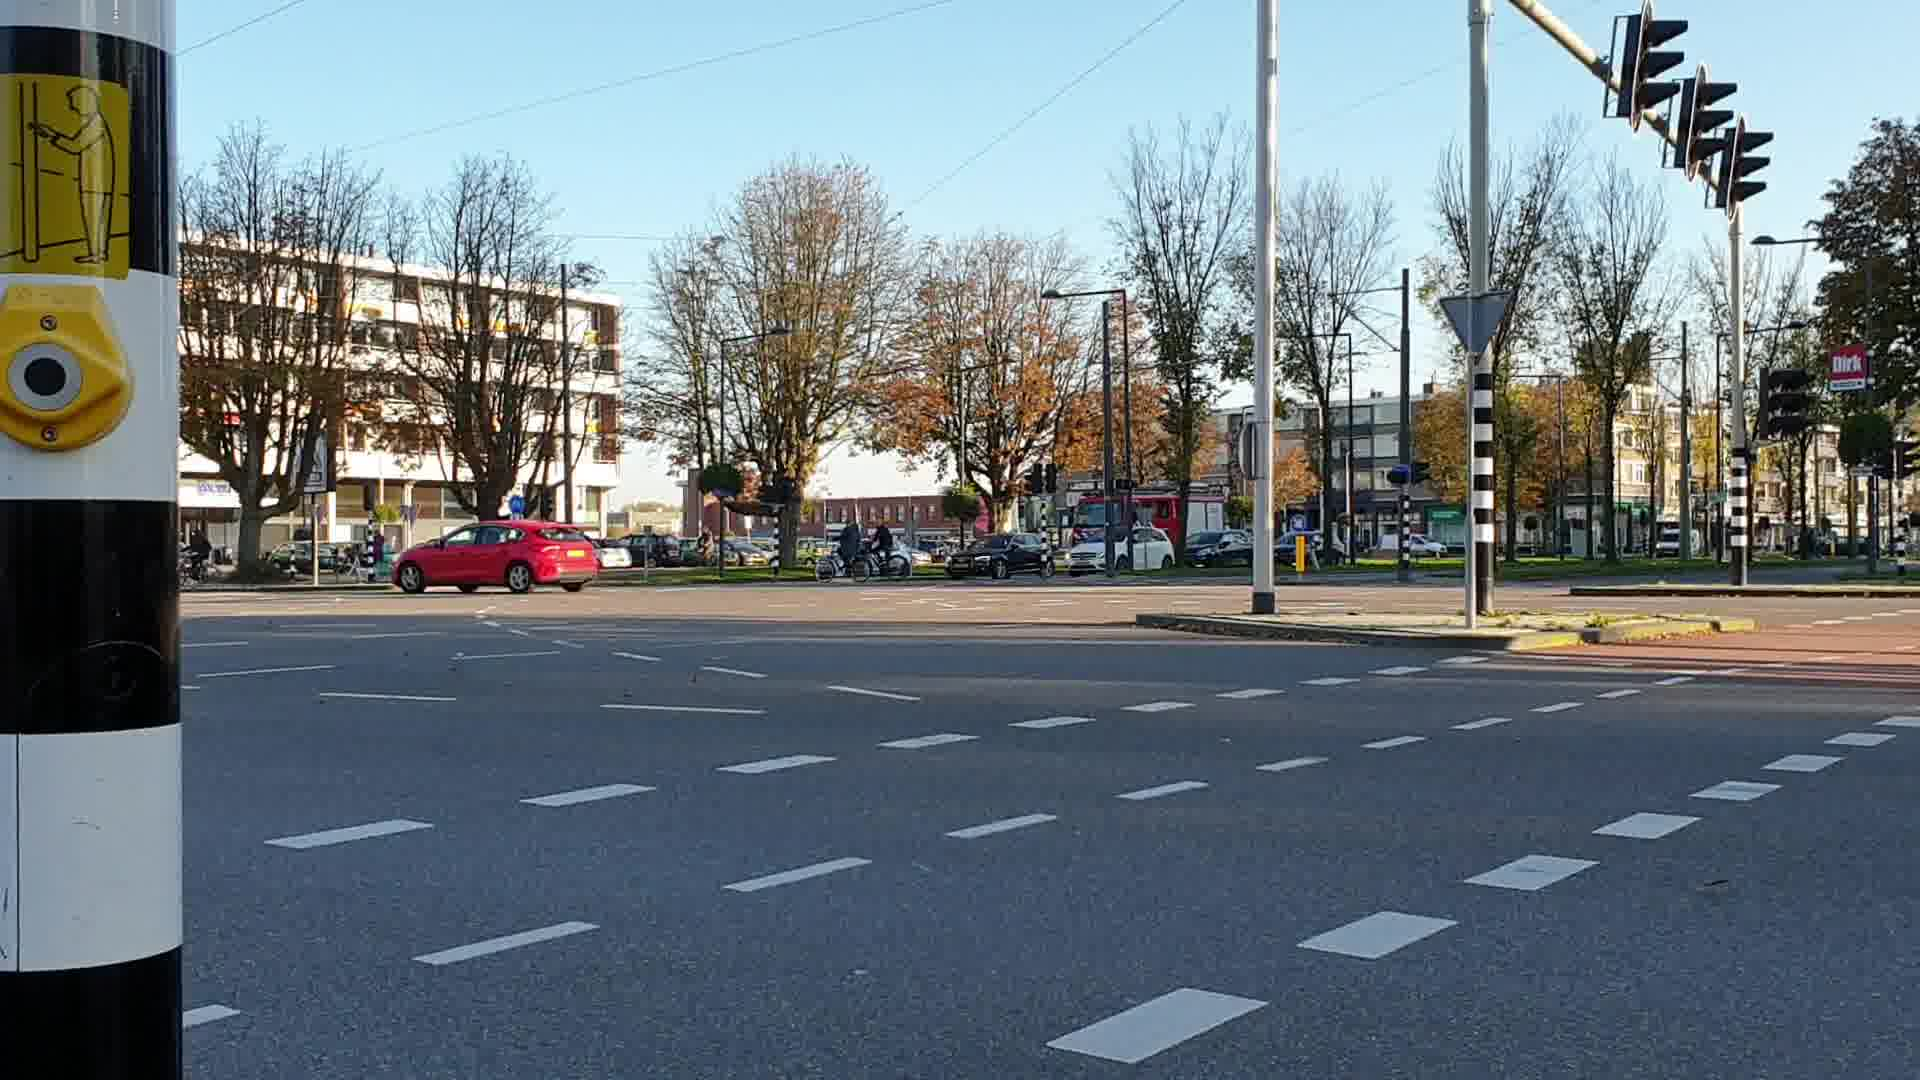car: (382, 517, 600, 592), (1068, 521, 1168, 579), (945, 531, 1050, 583)
